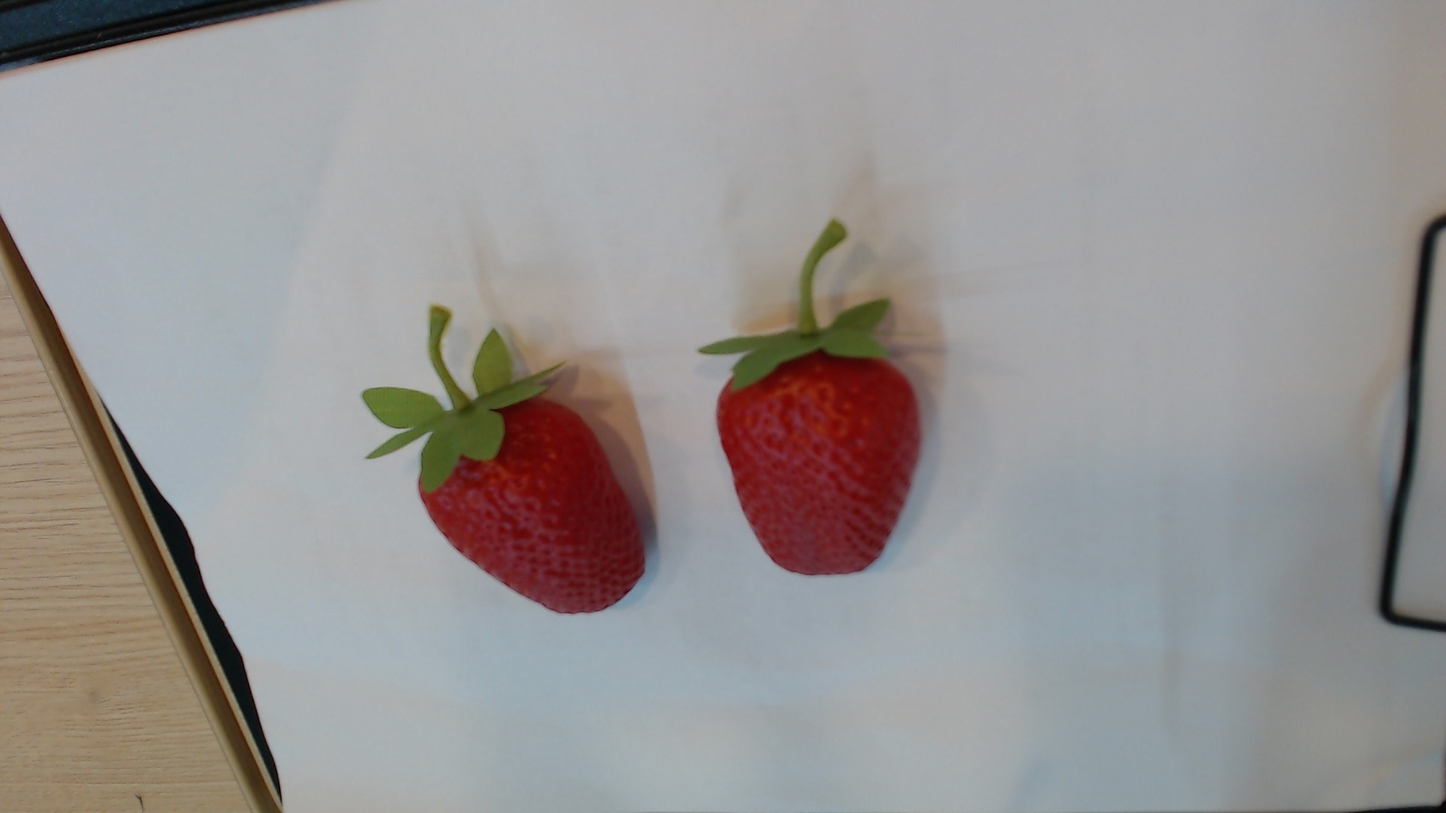strawberry: (704, 331, 934, 582), (407, 405, 657, 626)
